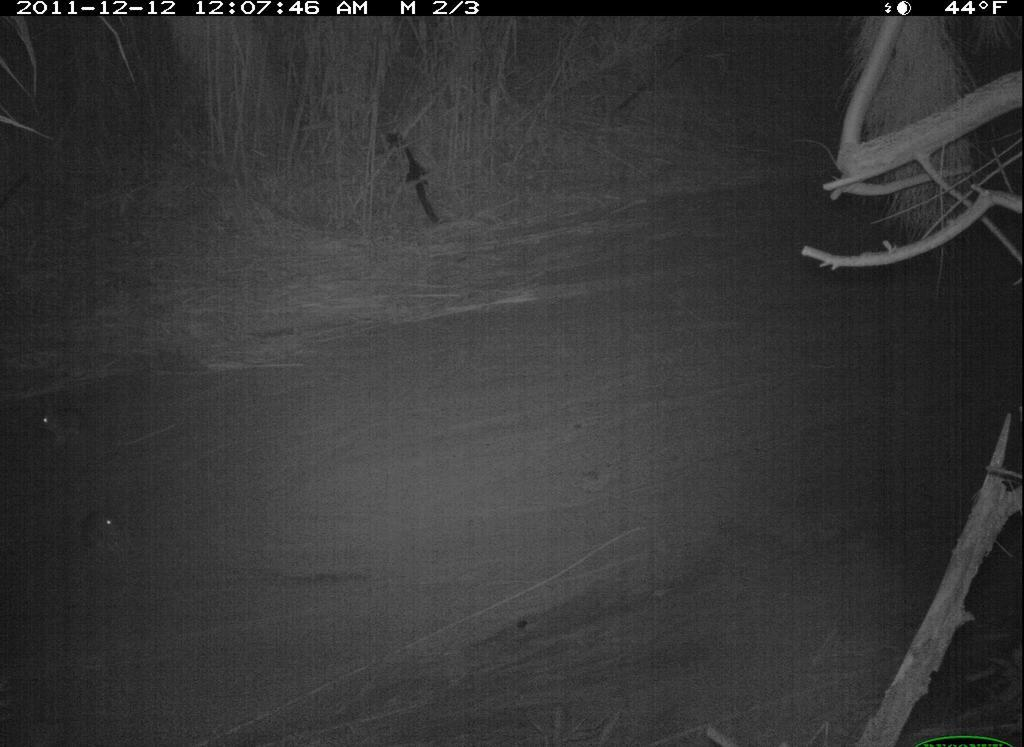rabbit: (79, 498, 134, 561), (29, 395, 90, 449)
